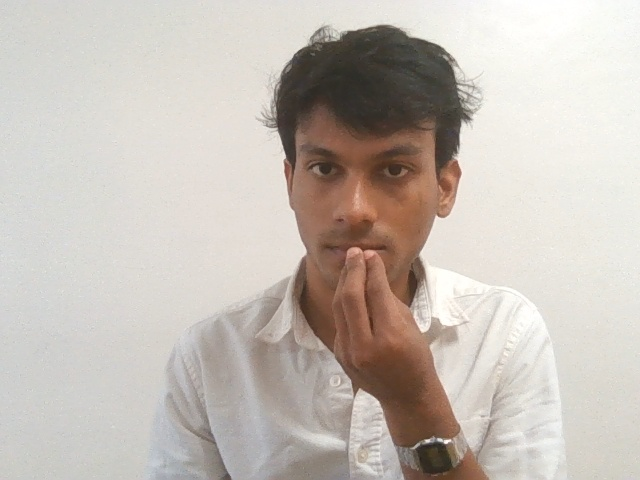Eat: (322, 244, 472, 434)
